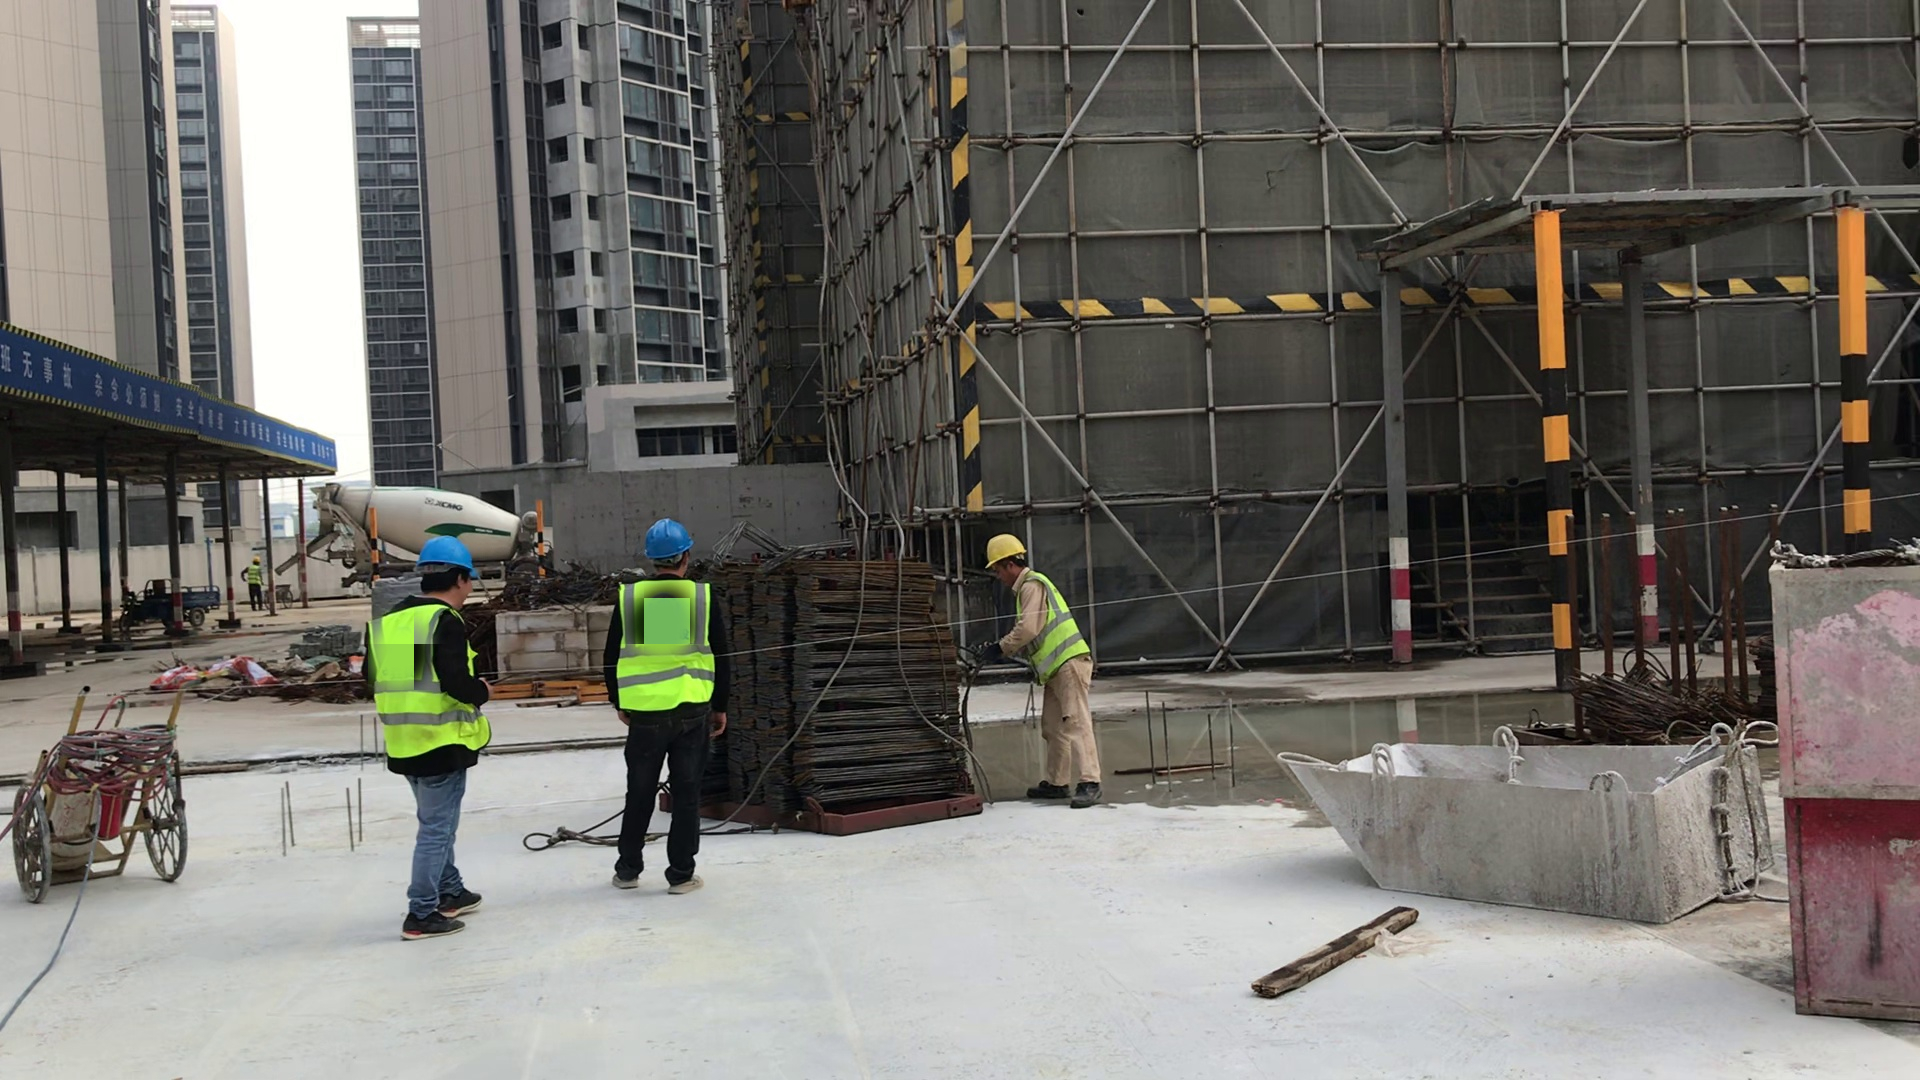handcart: (16, 680, 179, 899)
helmet: (415, 540, 476, 577), (644, 520, 693, 560), (986, 535, 1027, 566)
hopper: (1283, 731, 1786, 923)
person: (364, 540, 490, 940), (608, 521, 722, 895), (986, 535, 1102, 811), (242, 557, 263, 608)
slogan: (6, 331, 342, 477)
vest: (375, 610, 489, 762), (620, 581, 712, 714), (1024, 572, 1092, 679), (248, 565, 261, 587)
